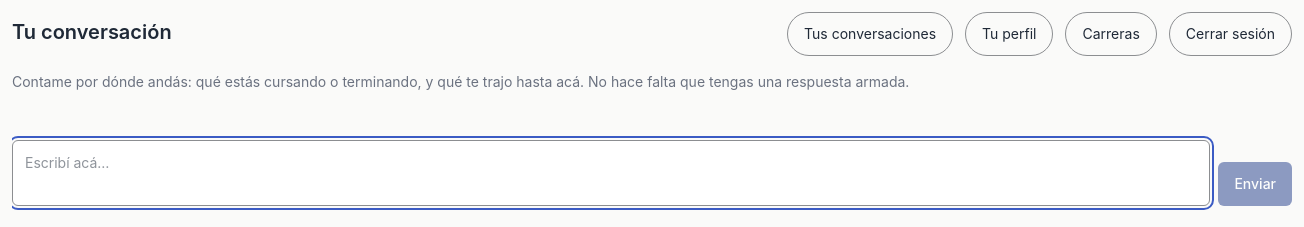
Test: HU-12 · historial de sesiones recuperable › sin conversaciones previas lo dice, en vez de mostrar una lista vacía
Step 1. Click the button "Tus conversaciones" → (870, 34), box [787,12,953,56]
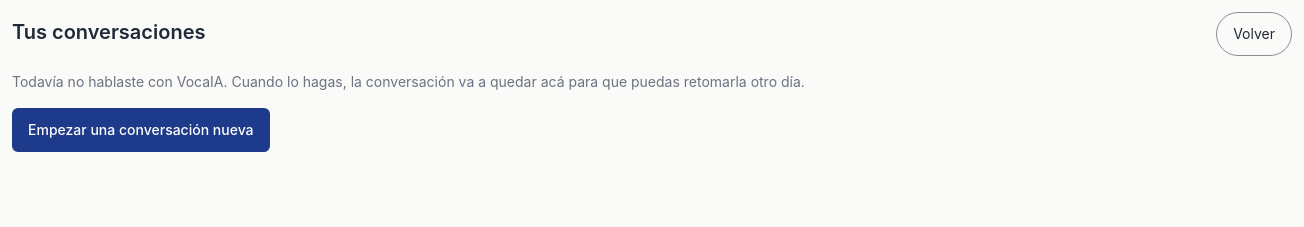
expect the text "Todavía no hablaste con VocaIA" is shown: met, box [12,73,805,90]
